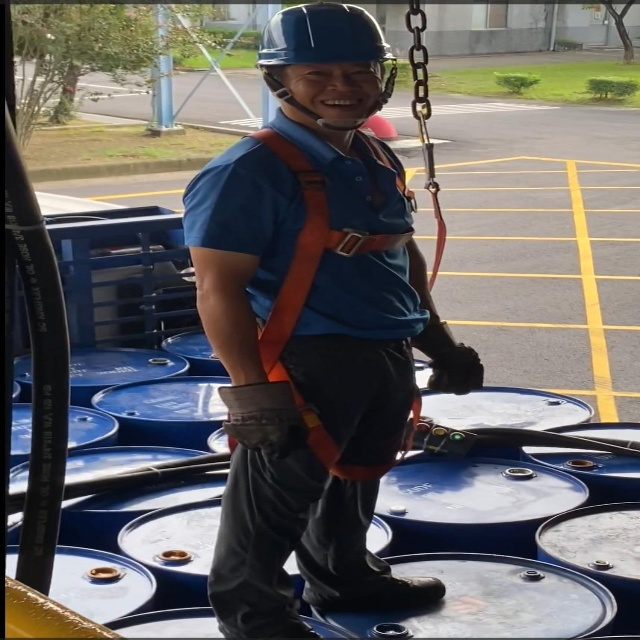Arnes_seguridad: (196, 123, 433, 485)
